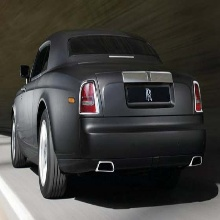no damage: (10, 28, 208, 200)
